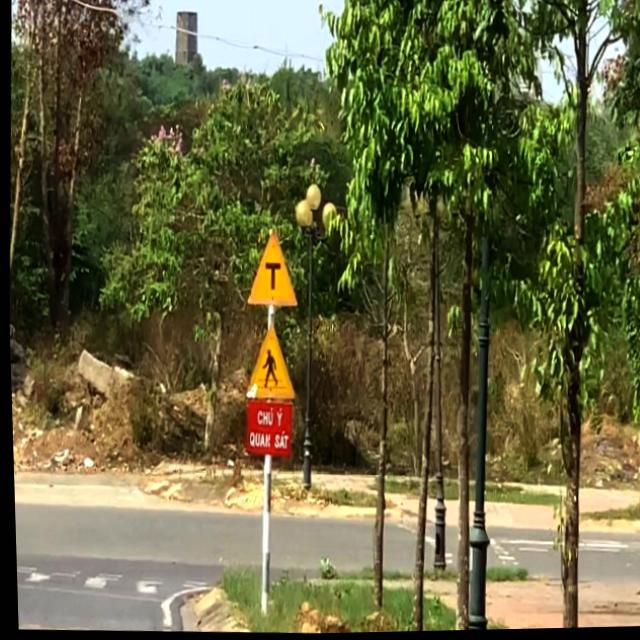Nguoi di bo cat ngang: (242, 320, 295, 402)
